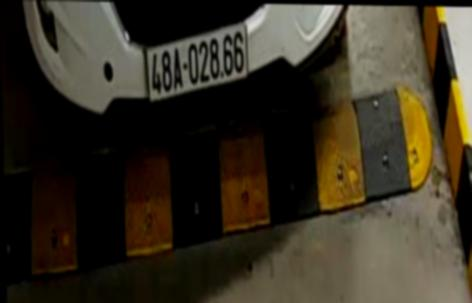License_Plate: (141, 23, 255, 106)
